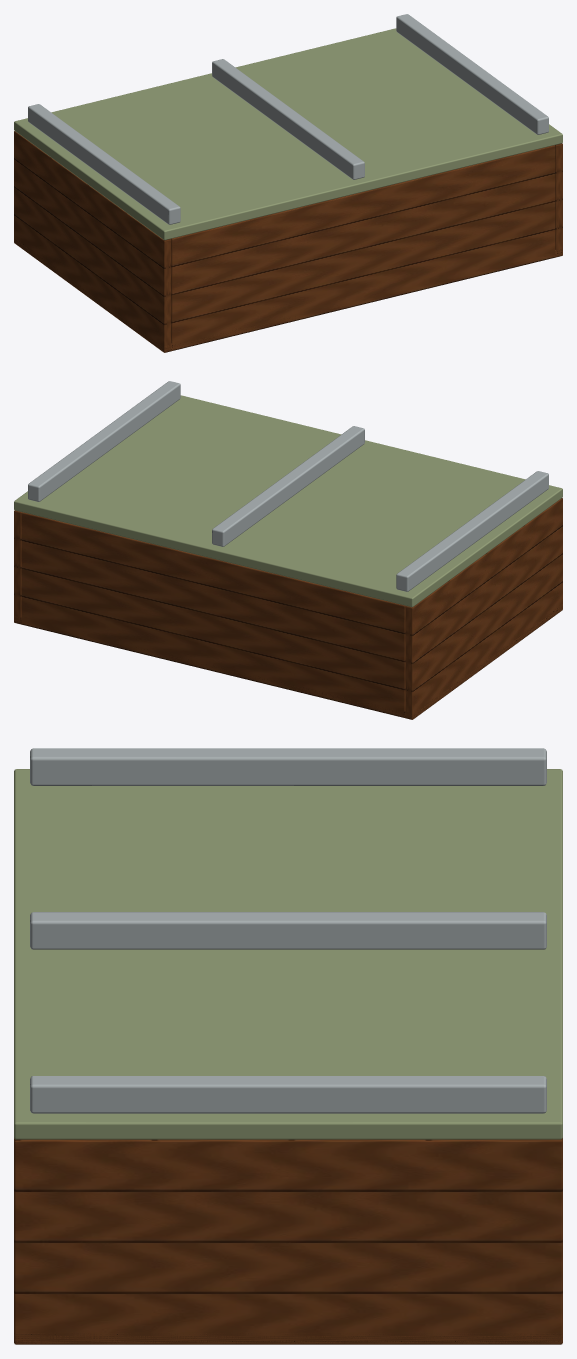
Rendered from survival-greenhouse-and-irrigation-cold-frame-2b959469__21307.glb.
3 views of the same model, one above another, from view 1: azimuth 30°, elevation 25°; view 2: azimuth 150°, elevation 25°; view 3: azimuth 270°, elevation 25° (orthographic). The views are drawn at different scales.
Parts seen in each view (by area): view 1: cold-frame, lid/canvas, lid/metal; view 2: cold-frame, lid/canvas, lid/metal; view 3: lid/canvas, cold-frame, lid/metal.
Boxes of the visible parts, x1=… form: cold-frame: x1=14, y1=131, x2=562, y2=352; lid/canvas: x1=14, y1=28, x2=562, y2=240; lid/metal: x1=28, y1=14, x2=548, y2=224; cold-frame: x1=14, y1=498, x2=562, y2=719; lid/canvas: x1=14, y1=395, x2=562, y2=607; lid/metal: x1=28, y1=381, x2=548, y2=591; lid/canvas: x1=14, y1=769, x2=562, y2=1139; cold-frame: x1=14, y1=1138, x2=562, y2=1344; lid/metal: x1=30, y1=748, x2=546, y2=1113.
Bounding box in the file's own units: 1.3 × 0.43 × 0.8501.
3 materials, 1 textured.
